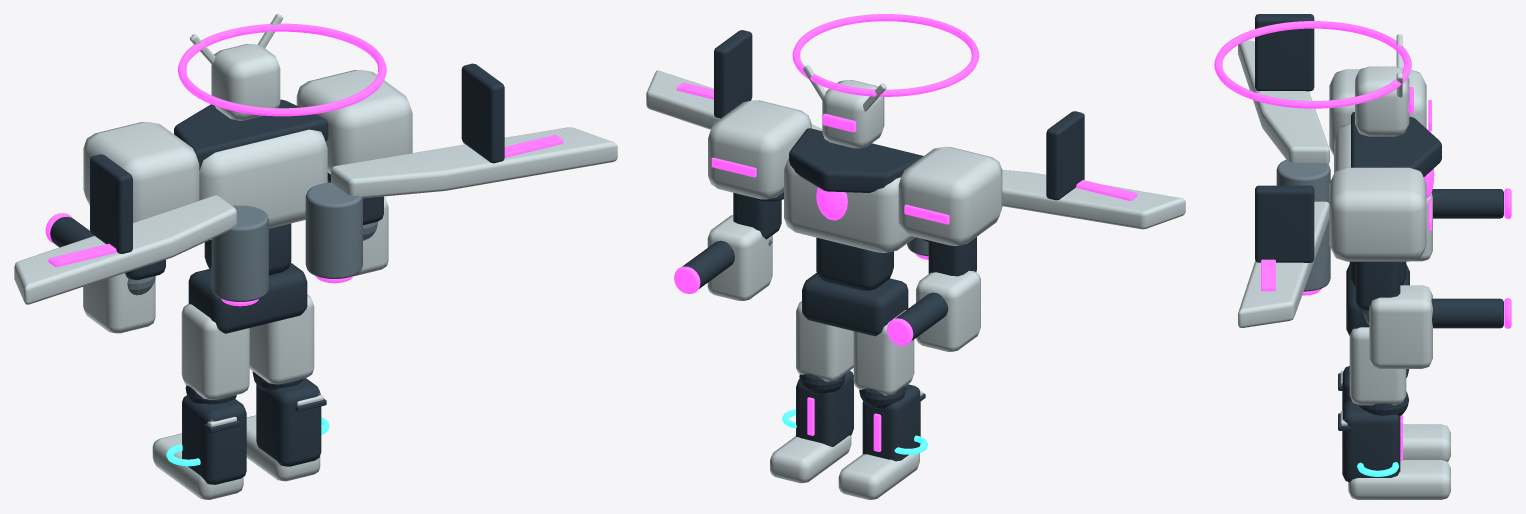
The model's file is OracleFrame.fbx.
3 renders of one model, left to right at view 1: azimuth 30°, elevation 25°; view 2: azimuth 150°, elevation 25°; view 3: azimuth 270°, elevation 25°, orthographic. The views are drawn at different scales.
Visible parts, largest first — view 1: Flight wing.005, Flight wing.004, Chest armor.002, Pauldron.005, Pauldron.004, Thigh armor.004, Back thruster.005, Back thruster.004, Shin armor.005, Shin armor.004, Pelvis armor.002, Chest collar.002 (+13 smaller); view 2: Pauldron.004, Pauldron.005, Chest armor.002, Flight wing.004, Chest collar.002, Pelvis armor.002, Forearm weapon.004, Forearm weapon.005, Thigh armor.004, Oracle halo, Thigh armor.005, Abdominal reactor.002 (+18 smaller); view 3: Pauldron.005, Forearm weapon.005, Wing stabilizer.005, Flight wing.004, Wing stabilizer.004, Flight wing.005, Oracle halo, Shin armor.005, Chest collar.002, Helmet.002, Flight boot.005, Thigh armor.005 (+13 smaller).
Boxes of the visible parts, box(x1,y1,x2,y2) form: Flight wing.005: box(331, 127, 617, 198); Flight wing.004: box(14, 195, 236, 304); Chest armor.002: box(199, 129, 327, 239); Pauldron.005: box(296, 69, 412, 174); Pauldron.004: box(83, 122, 199, 222); Thigh armor.004: box(181, 303, 249, 399); Back thruster.005: box(305, 182, 362, 278); Back thruster.004: box(211, 205, 268, 301); Shin armor.005: box(256, 378, 321, 466); Shin armor.004: box(182, 395, 246, 484); Pelvis armor.002: box(188, 263, 307, 333); Chest collar.002: box(174, 99, 328, 169); Pauldron.004: box(898, 146, 1002, 245); Pauldron.005: box(708, 100, 811, 199); Chest armor.002: box(784, 157, 915, 252); Flight wing.004: box(1002, 169, 1185, 229); Chest collar.002: box(789, 128, 923, 192); Pelvis armor.002: box(802, 273, 908, 336); Forearm weapon.004: box(916, 270, 980, 351); Forearm weapon.005: box(707, 215, 772, 300); Thigh armor.004: box(853, 310, 914, 395); Oracle halo: box(792, 14, 979, 96); Thigh armor.005: box(796, 301, 853, 381); Abdominal reactor.002: box(816, 237, 893, 290); Pauldron.005: box(1329, 167, 1426, 261); Forearm weapon.005: box(1369, 285, 1432, 368); Wing stabilizer.005: box(1255, 185, 1314, 262); Flight wing.004: box(1238, 40, 1329, 164); Wing stabilizer.004: box(1255, 14, 1314, 91); Flight wing.005: box(1238, 201, 1329, 327); Oracle halo: box(1214, 21, 1411, 108); Shin armor.005: box(1342, 400, 1400, 482); Chest collar.002: box(1351, 112, 1441, 176); Helmet.002: box(1355, 66, 1409, 136); Flight boot.005: box(1348, 459, 1450, 499); Thigh armor.005: box(1349, 327, 1406, 405).
Size of the model in its own units: 478 by 344 by 220.
